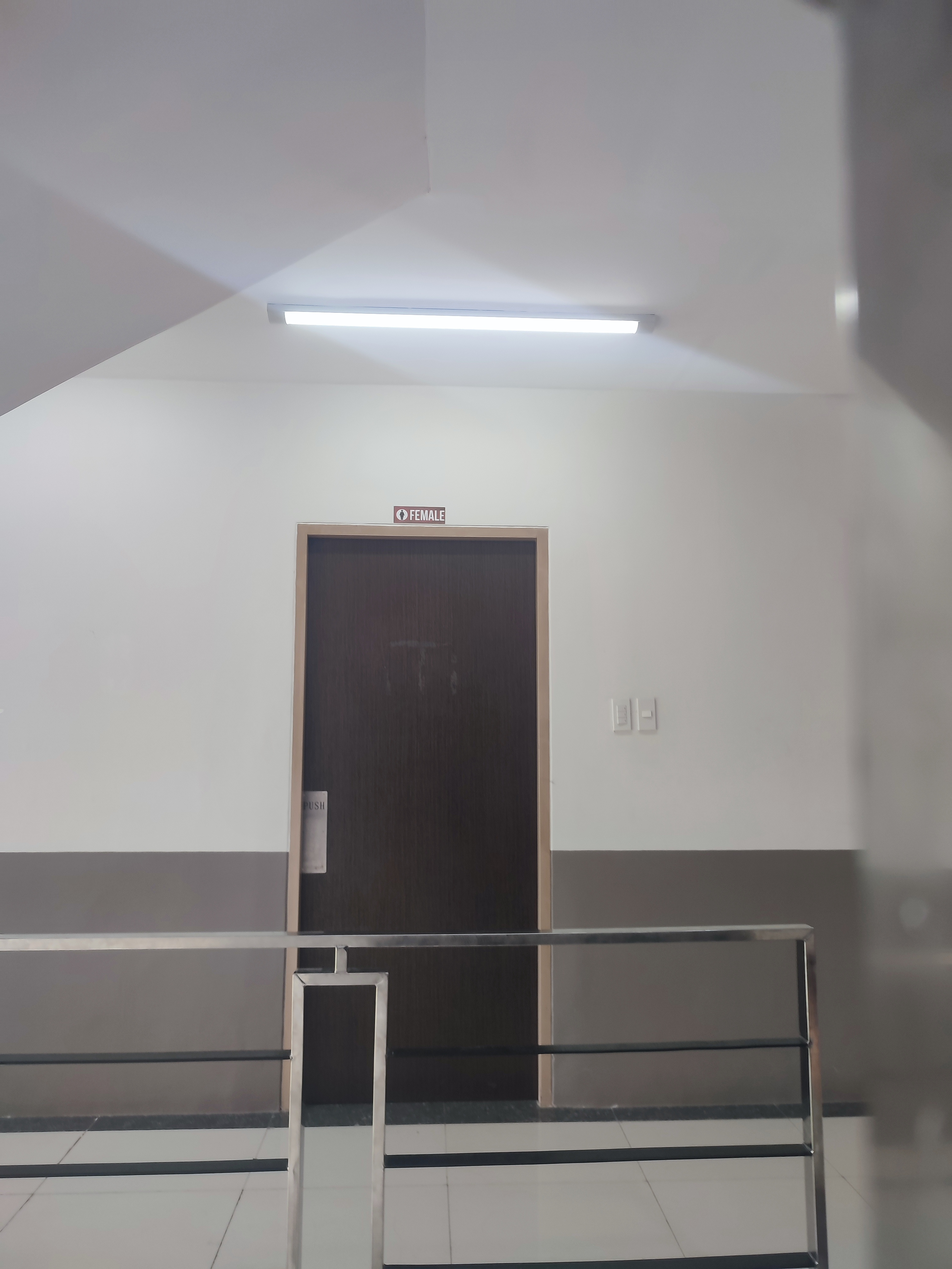door: (286, 524, 552, 1116)
